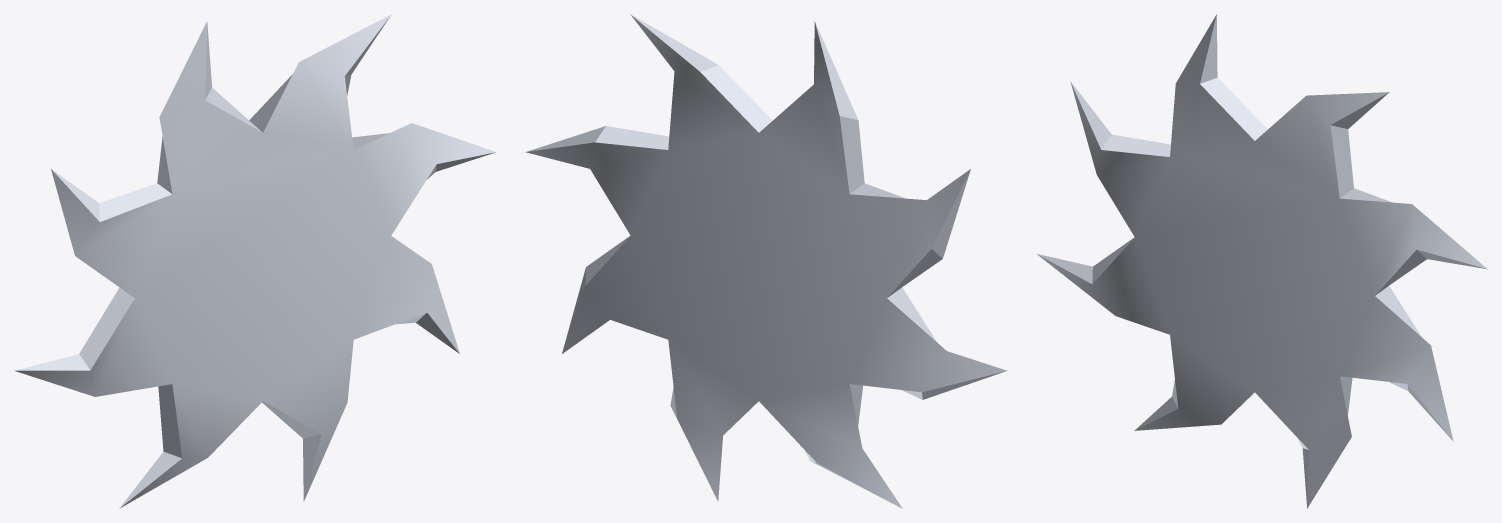
The model's file is Saw C.fbx.
The picture shows the model from 3 angles, left to right: view 1: azimuth 30°, elevation 25°; view 2: azimuth 150°, elevation 25°; view 3: azimuth 330°, elevation 25°; orthographic projection. The views are drawn at different scales.
Parts seen in each view (by area): view 1: Saw C; view 2: Saw C; view 3: Saw C.
Boxes of the visible parts, x1=… form: Saw C: x1=14, y1=14, x2=496, y2=508; Saw C: x1=525, y1=14, x2=1007, y2=508; Saw C: x1=1036, y1=14, x2=1487, y2=508.
Size of the model in its own units: 142 by 142 by 8.21.
